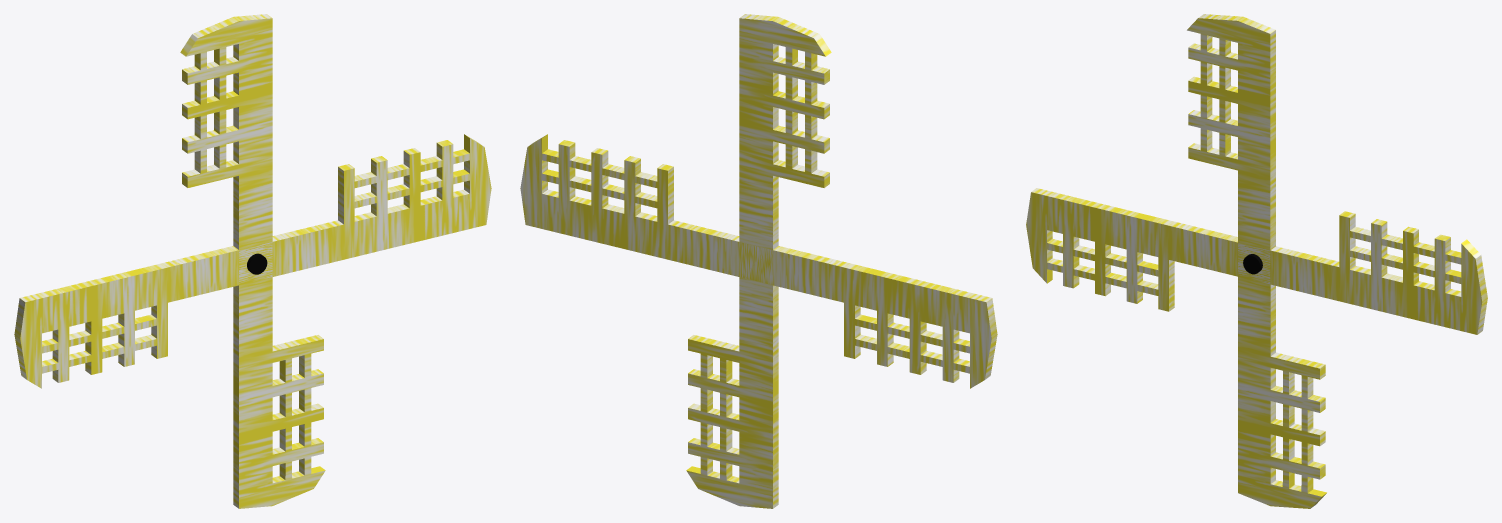
The model's file is windmill_Blades_v3.fbx.
3 views of the same model, side by side, from view 1: azimuth 30°, elevation 25°; view 2: azimuth 150°, elevation 25°; view 3: azimuth 330°, elevation 25° (orthographic). The views are drawn at different scales.
Parts seen in each view (by area): view 1: Top_blade, Left_blade, Bottlom_blade, Right_blade, Center_cube; view 2: Top_blade, Left_blade, Bottlom_blade, Right_blade, Center_cube; view 3: Right_blade, Top_blade, Left_blade, Bottlom_blade, Center_cube.
Part boxes in pixels (x1=…): Top_blade: x1=180, y1=14, x2=272, y2=249; Left_blade: x1=14, y1=246, x2=238, y2=388; Bottlom_blade: x1=233, y1=277, x2=325, y2=508; Right_blade: x1=272, y1=134, x2=491, y2=276; Center_cube: x1=239, y1=242, x2=272, y2=285; Top_blade: x1=739, y1=14, x2=831, y2=249; Left_blade: x1=773, y1=246, x2=997, y2=388; Bottlom_blade: x1=686, y1=277, x2=778, y2=508; Right_blade: x1=520, y1=134, x2=739, y2=276; Center_cube: x1=739, y1=242, x2=772, y2=284; Right_blade: x1=1270, y1=211, x2=1487, y2=334; Top_blade: x1=1187, y1=14, x2=1275, y2=250; Left_blade: x1=1026, y1=188, x2=1237, y2=311; Bottlom_blade: x1=1238, y1=276, x2=1326, y2=508; Center_cube: x1=1238, y1=242, x2=1270, y2=284.
Size of the model in its own units: 13.99 by 13.99 by 0.4254.
